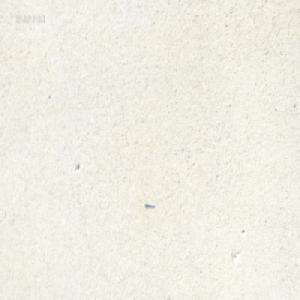Nail: (144, 201, 155, 209)
